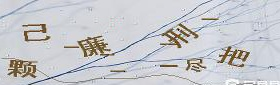chinese: (215, 43, 251, 74), (79, 34, 113, 60), (7, 55, 38, 81), (163, 23, 195, 48), (21, 19, 52, 43), (184, 58, 203, 73)
